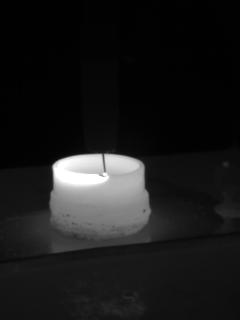tip_wire_left: (86, 147, 107, 176)
tip_wire_right: (103, 148, 117, 176)
